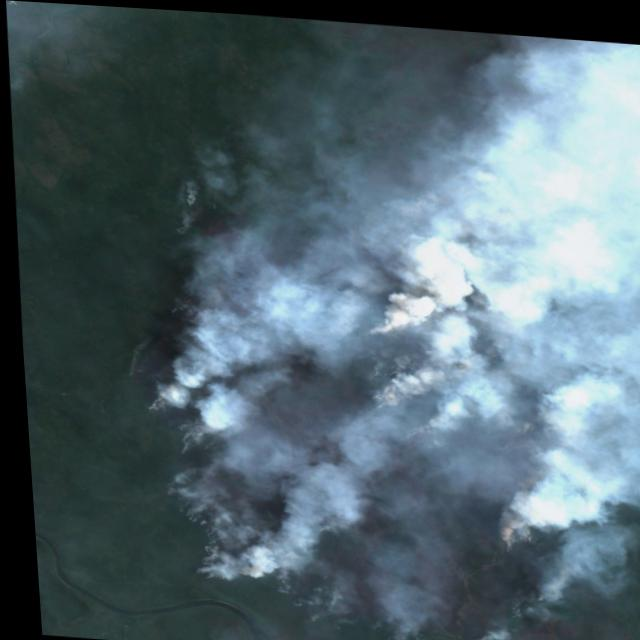fire: (114, 115, 640, 640)
